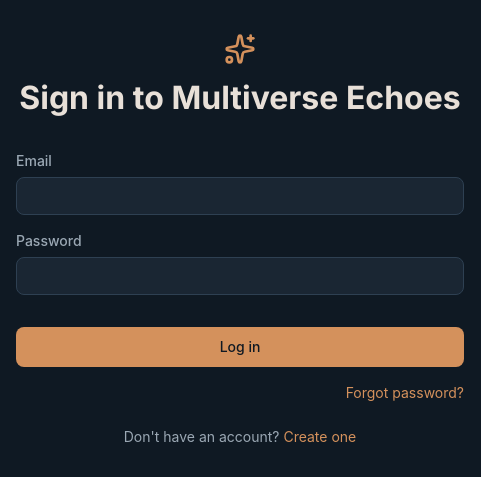
Test case: class C: the login page shows the server error, with its fixed string as the fallback › shows its own string for a failure that is not the server error
Type "a@b.c" into the field labelled "Email" at (240, 196), box [16, 177, 464, 215]
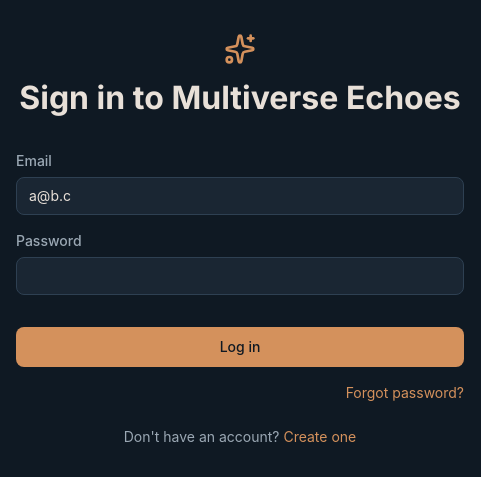
Type "password-123" into the password field labelled "Password" at (240, 276), box [16, 257, 464, 295]
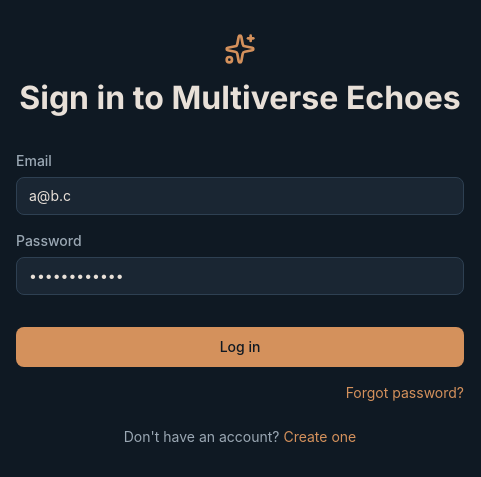
Click the button "Log in" at (240, 347), box [16, 327, 464, 367]
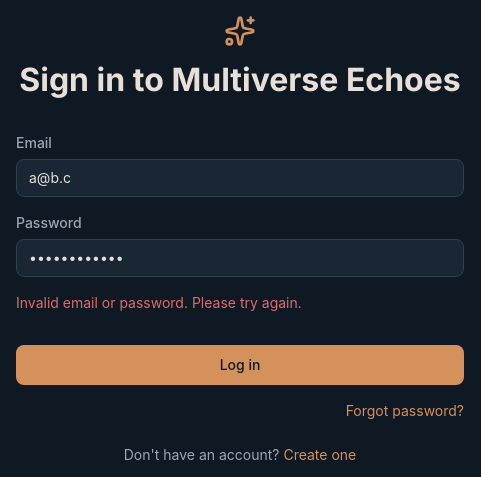
Expected: the text "Invalid email or password. Please try again." is shown, [16, 294, 302, 311]
